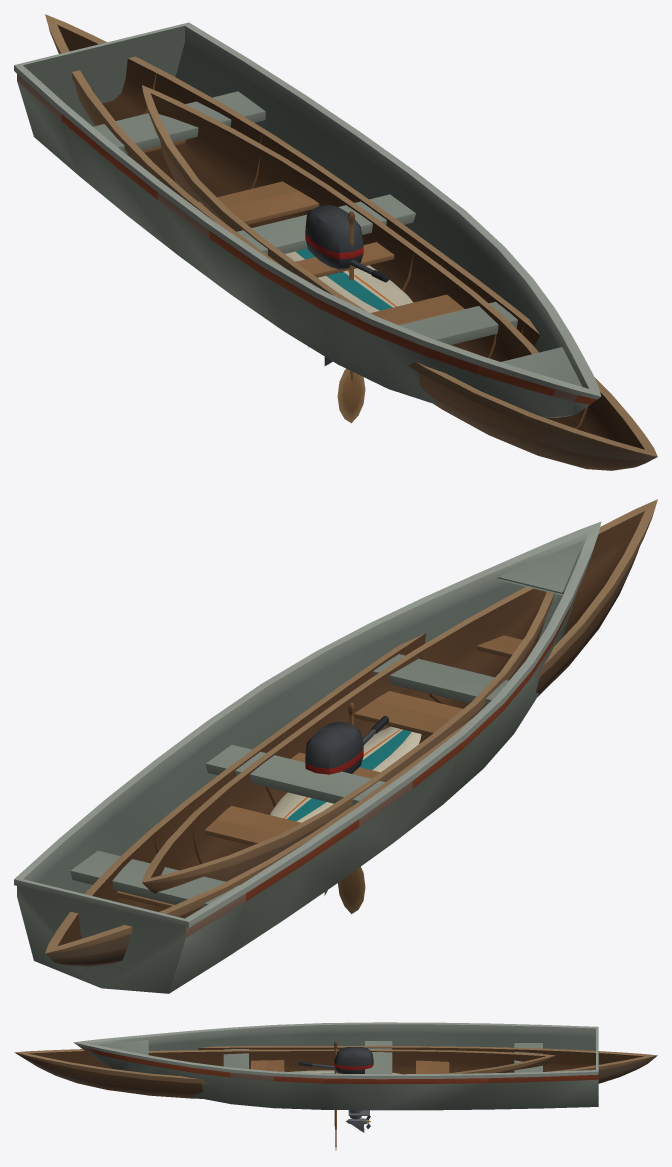
Rendered from boats.glb.
3 views of the same model, one above another, from view 1: azimuth 30°, elevation 25°; view 2: azimuth 150°, elevation 25°; view 3: azimuth 270°, elevation 25° (orthographic). The views are drawn at different scales.
Visible parts, largest first — view 1: skiff, canoe_long, canoe, outboard, surfboard, paddle; view 2: skiff, canoe, canoe_long, surfboard, outboard, paddle; view 3: skiff, canoe_long, canoe, outboard.
Part boxes in pixels (box(x1,y1,x2,y2)): skiff: box(14, 22, 601, 417); canoe_long: box(45, 14, 657, 470); canoe: box(142, 85, 538, 361); outboard: box(305, 205, 388, 366); surfboard: box(285, 248, 413, 312); paddle: box(337, 211, 365, 423); skiff: box(14, 521, 601, 993); canoe: box(142, 587, 554, 893); canoe_long: box(45, 499, 657, 966); surfboard: box(270, 726, 421, 822); outboard: box(305, 716, 388, 895); paddle: box(338, 702, 365, 913); skiff: box(73, 1022, 598, 1110); canoe_long: box(14, 1046, 657, 1098); canoe: box(148, 1049, 555, 1074); outboard: box(298, 1047, 373, 1132).
Bounding box in the file's own units: 1.5 × 1.45 × 7.6.
